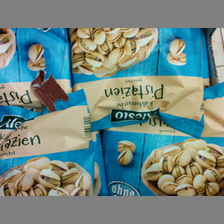nuts: (68, 28, 206, 139), (98, 85, 224, 196), (1, 92, 106, 195)
